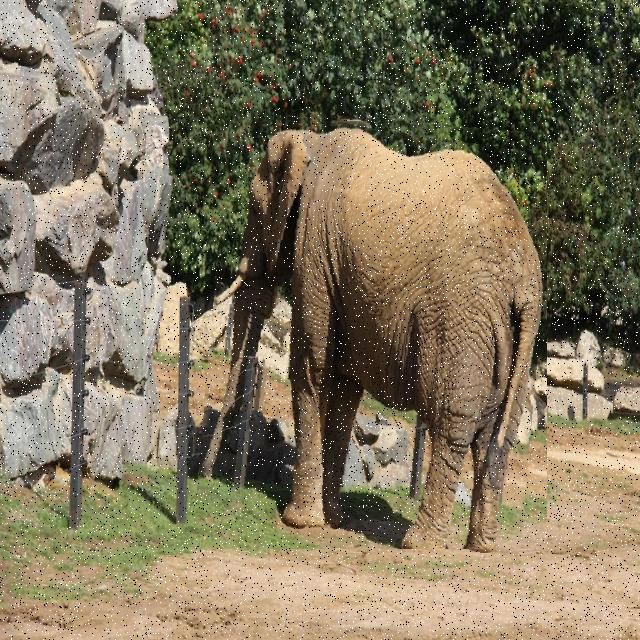elephant: (203, 112, 547, 549)
